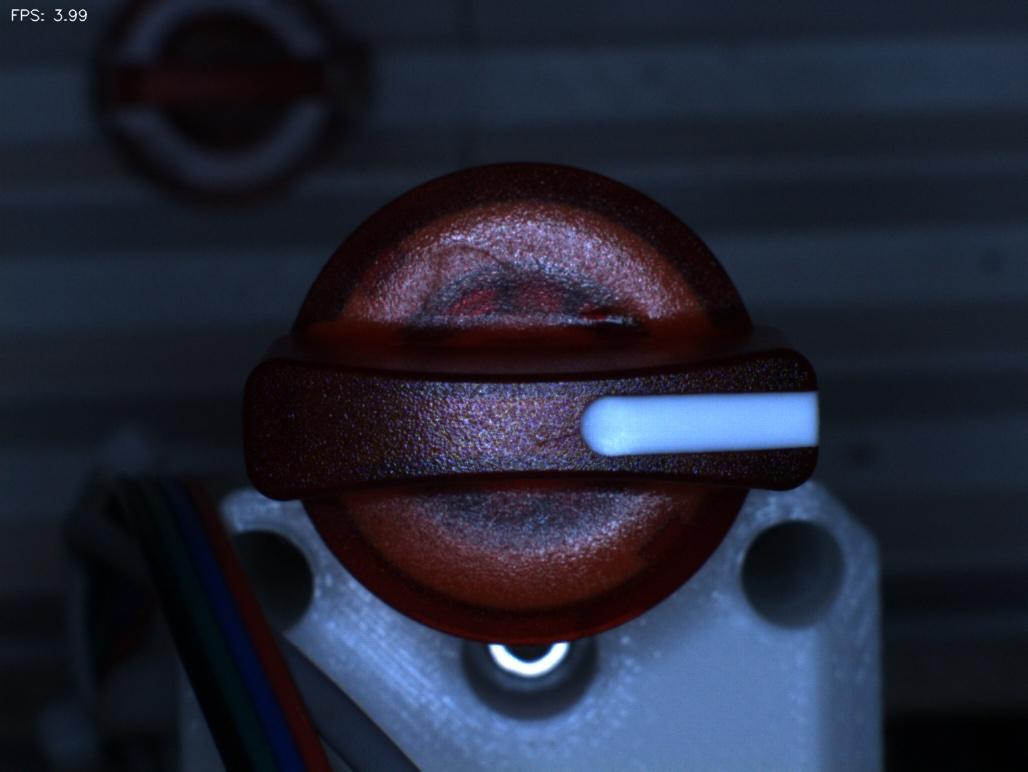Choc: (568, 280, 663, 355)
